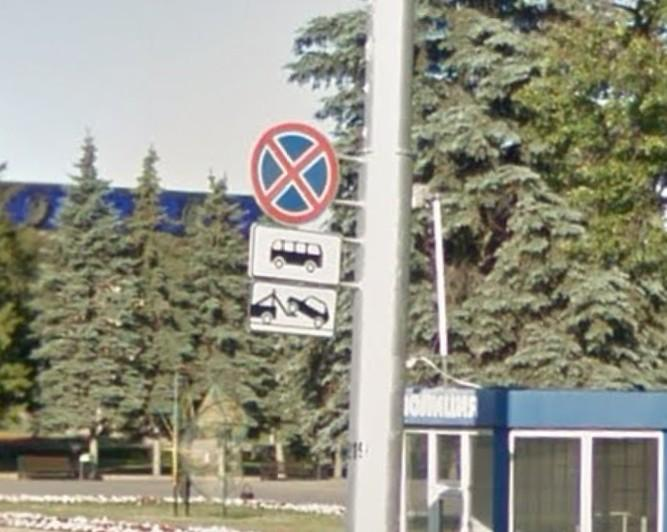No Parking: (250, 121, 342, 228)
